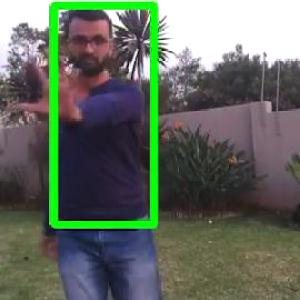follow_hand: (16, 46, 74, 118)
